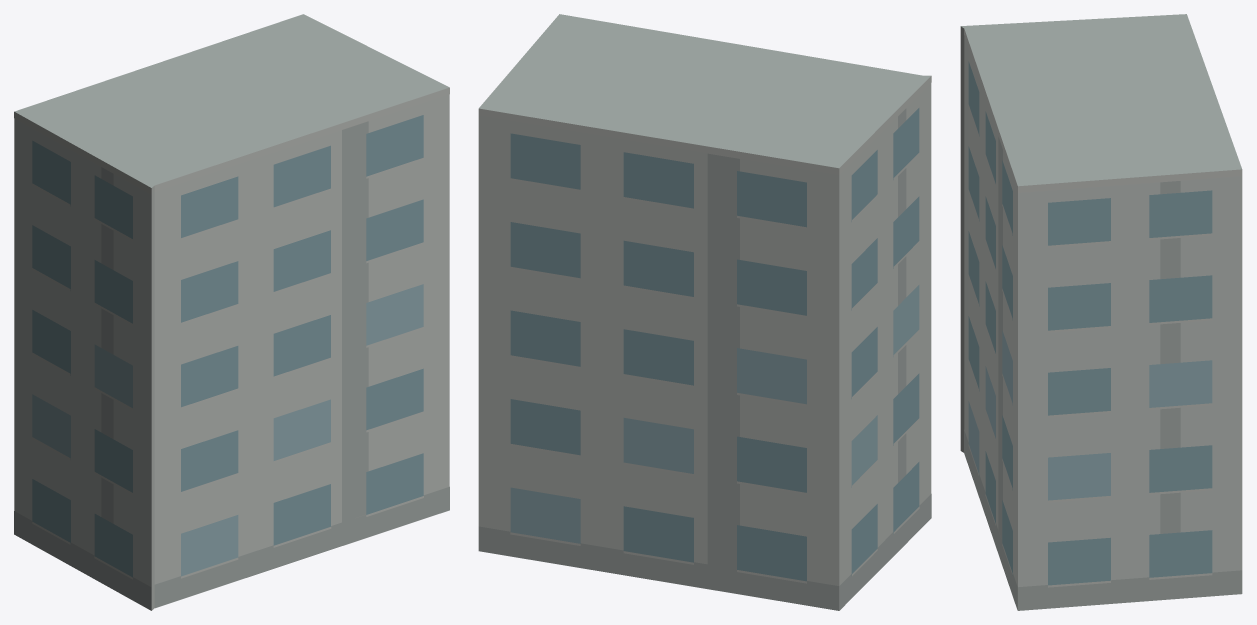
File: survey-upis-32680342.glb
3 renders of one model, left to right at view 1: azimuth 30°, elevation 25°; view 2: azimuth 150°, elevation 25°; view 3: azimuth 270°, elevation 25°, orthographic. The views are drawn at different scales.
Parts seen in each view (by area): view 1: survey-upis-32680342.tmp; view 2: survey-upis-32680342.tmp; view 3: survey-upis-32680342.tmp.
Part boxes in pixels (left/top/right/bottom): survey-upis-32680342.tmp: left=14, top=14, right=449, bottom=610; survey-upis-32680342.tmp: left=478, top=14, right=931, bottom=610; survey-upis-32680342.tmp: left=960, top=14, right=1242, bottom=610.
Bounding box in the file's own units: 13.14 × 15.1 × 9.09.
